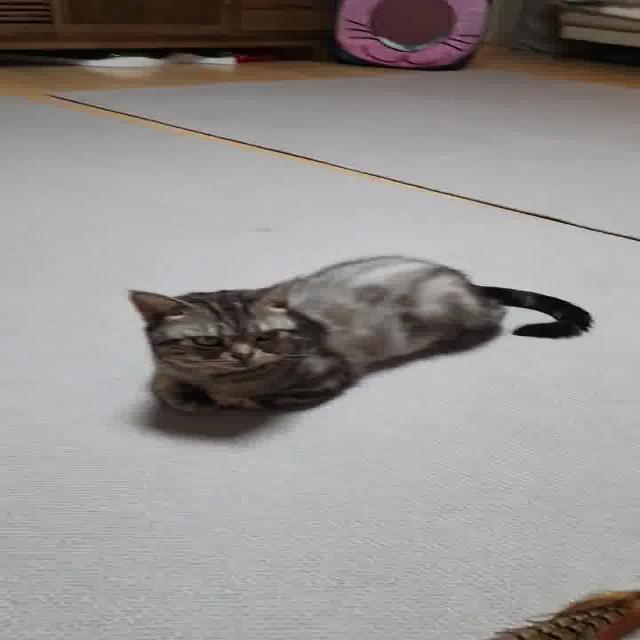cat: (93, 245, 600, 438)
